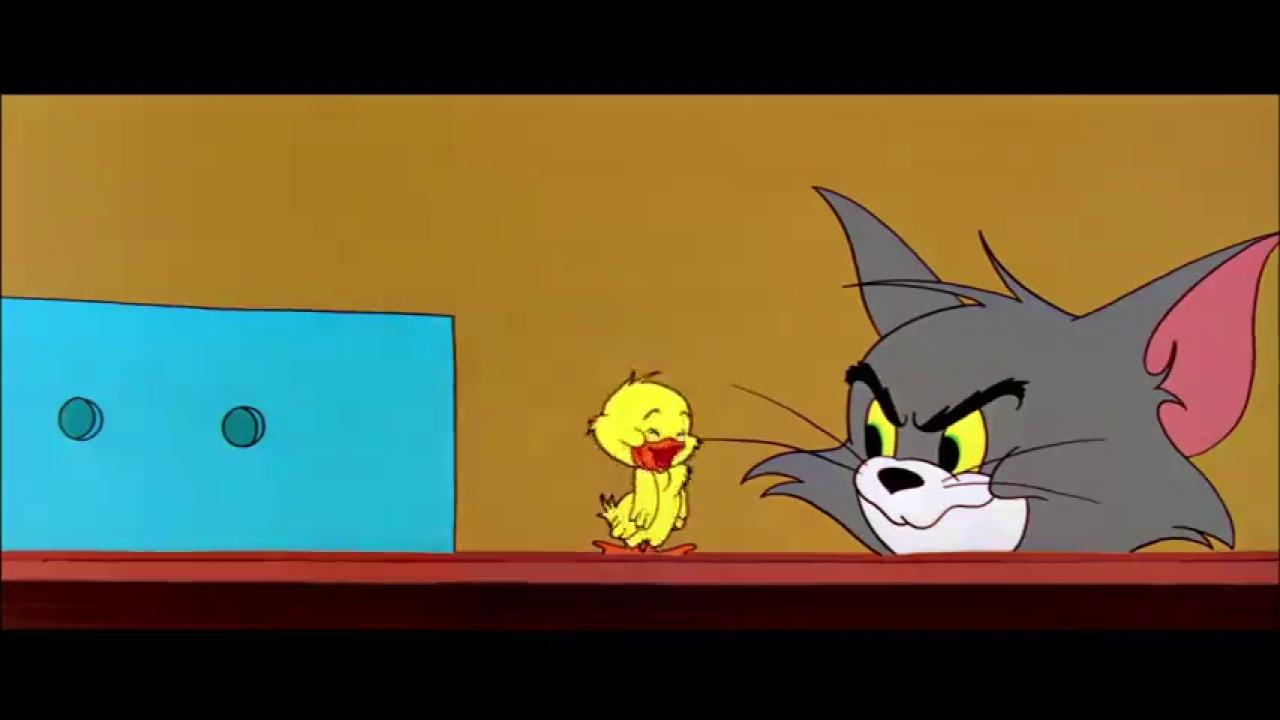Tom: (740, 183, 1280, 554)
